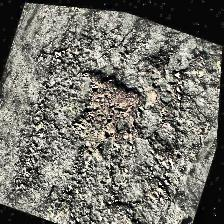pothole: (60, 59, 160, 167), (100, 192, 156, 224)
